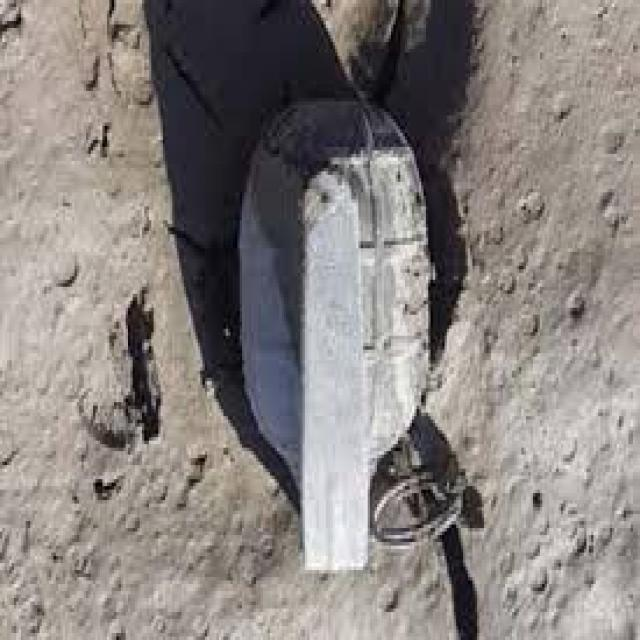grenade: (237, 89, 468, 584)
